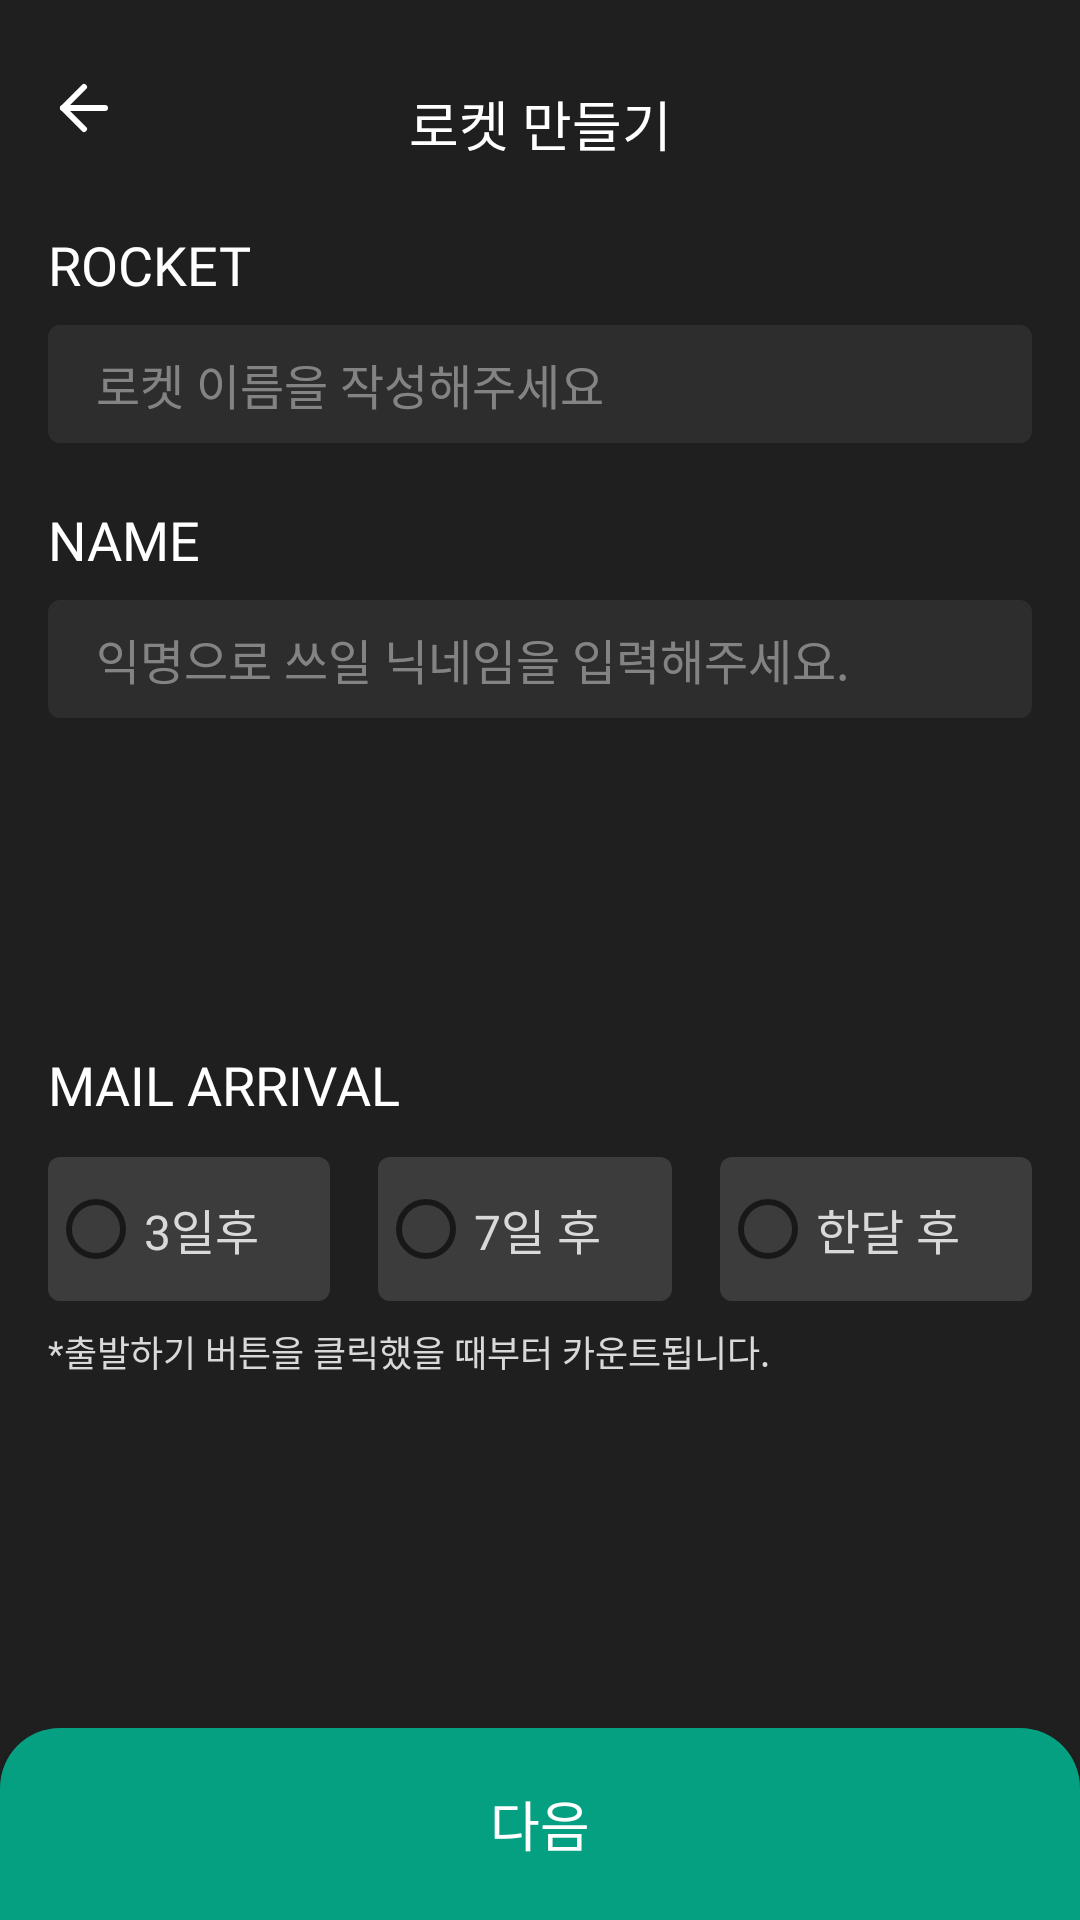

Icon bounding boxes for this 1080×1920 phone screenshot, format {"left": x1, "top": y1, "right": x2, "bottom": y2}:
back: {"left": 60, "top": 84, "right": 108, "bottom": 132}
